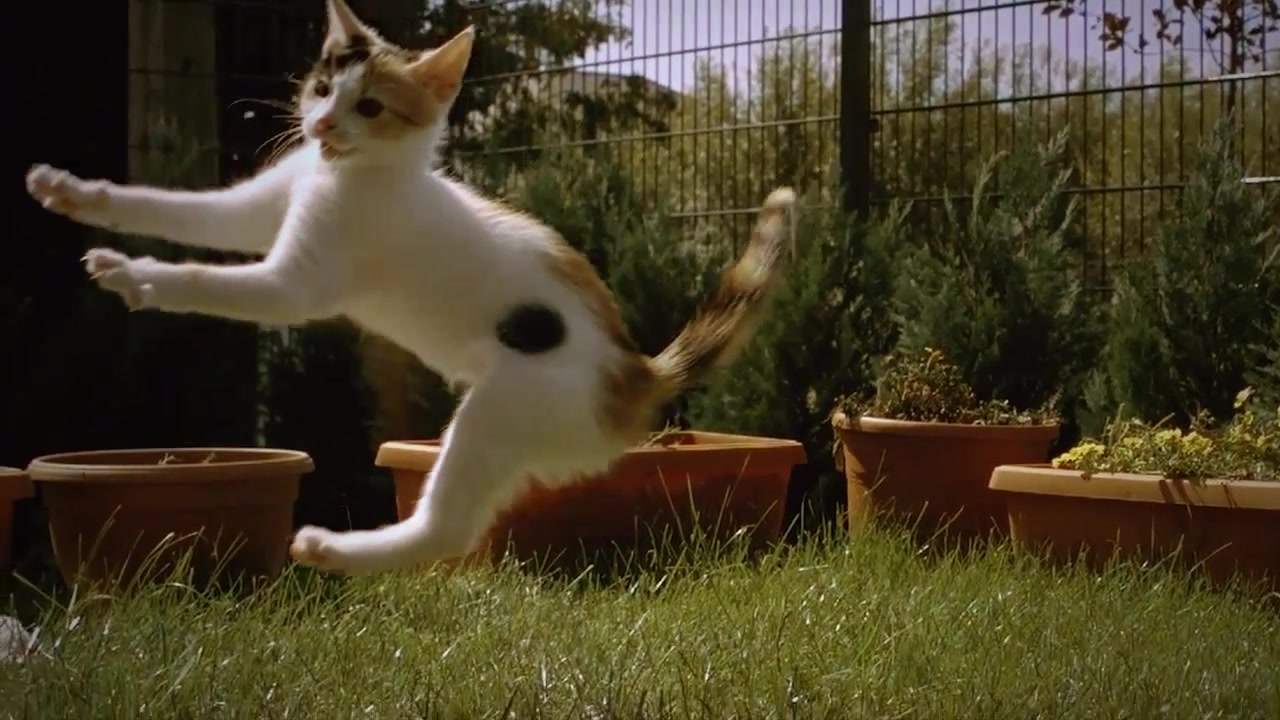cat: (24, 1, 799, 582)
